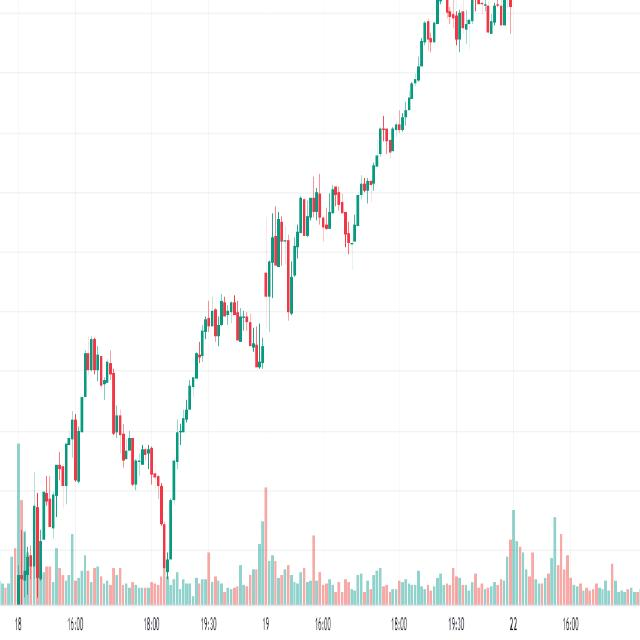Head-Shoulders: (21, 329, 167, 589)
Rounding-Top: (186, 276, 266, 414)
